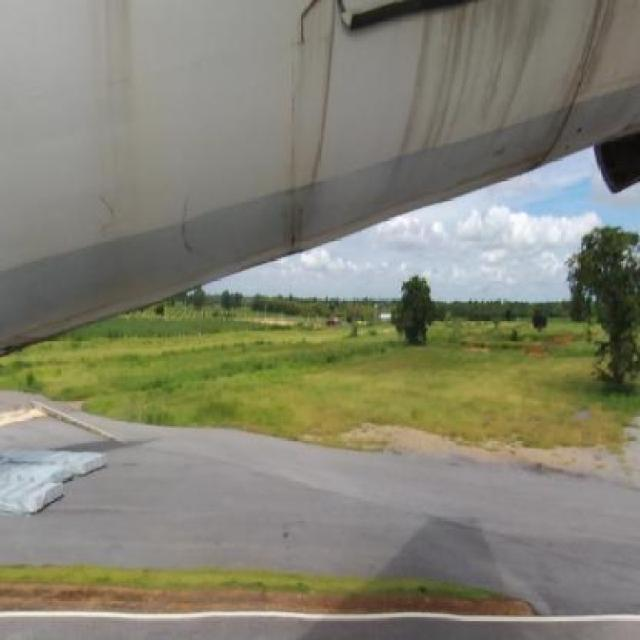Rust: (385, 1, 620, 204), (273, 1, 344, 284), (85, 161, 228, 284), (80, 0, 157, 212)
